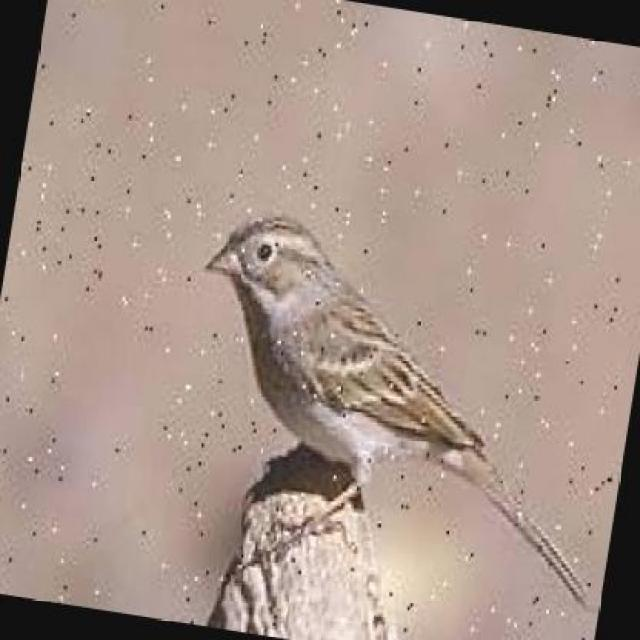Bird: (215, 210, 601, 617)
